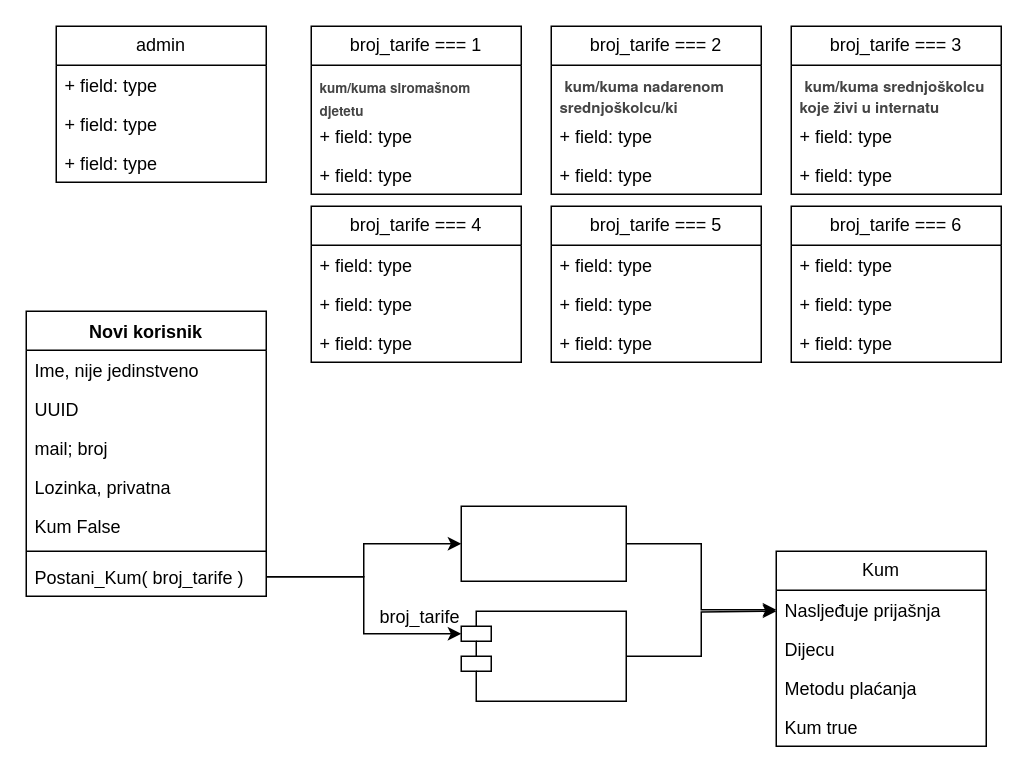
The diagram is 1028 pixels wide and 777 high, and some of its shapes have lost their labels. Each missing label, with the centre of its shape:
"Dodaj Plaćanje" goes at (x=543, y=543).
"Pridruživanje dijeteta" goes at (x=543, y=655).
